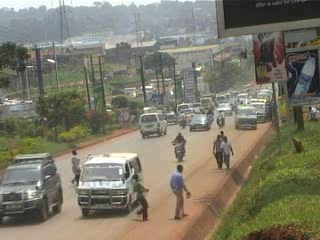Car: (0, 148, 66, 221), (188, 112, 213, 133), (177, 107, 199, 121), (161, 109, 178, 126), (216, 101, 232, 115)
Motorcycle: (169, 131, 187, 166), (216, 108, 226, 130), (205, 108, 216, 126), (180, 113, 188, 129)
